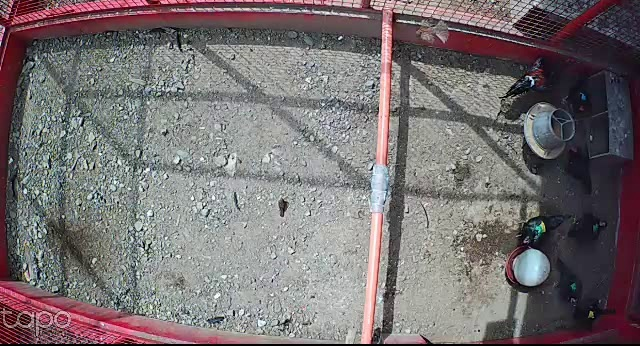Chicken: (514, 211, 572, 251), (554, 257, 587, 310), (566, 211, 612, 244), (567, 143, 596, 194), (561, 73, 593, 114), (572, 297, 609, 332)
Drinker: (503, 245, 552, 288)
Feeder: (524, 101, 576, 159)
Rooster: (497, 54, 576, 103)
Saddle_Color_Blue: (580, 92, 587, 100)
Saddle_Color_Yellow: (587, 311, 593, 318)
Saddle_Color_YellowGreen: (535, 220, 545, 235)
